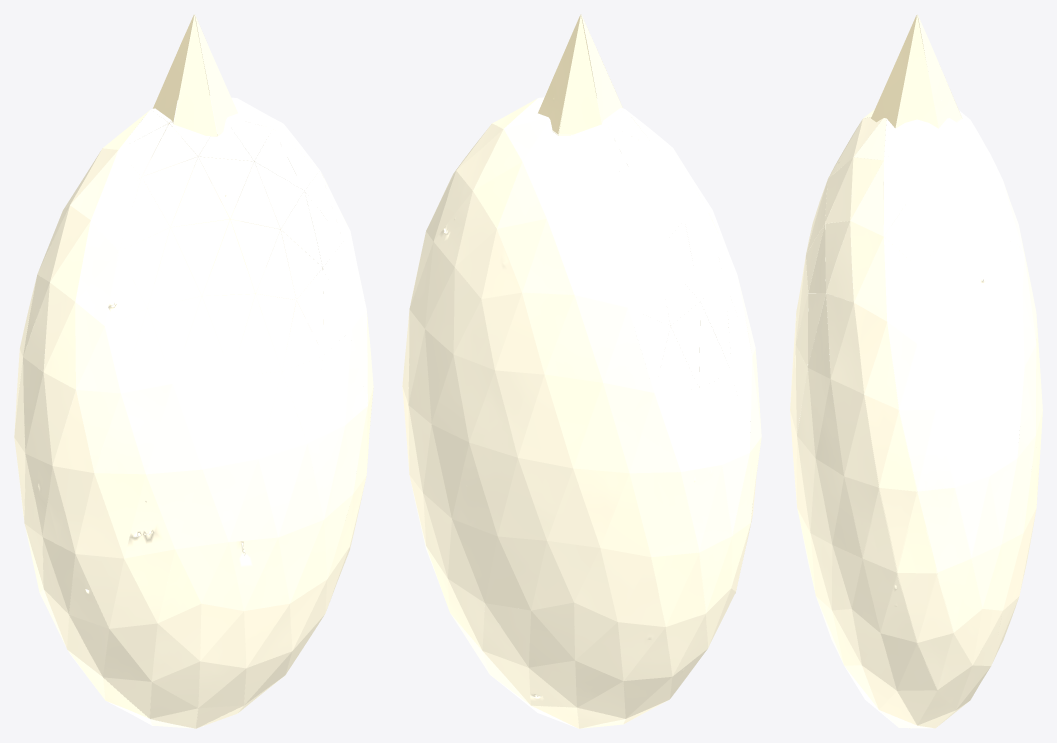
The model's file is halloween_seed.glb.
The picture shows the model from 3 angles, left to right: view 1: azimuth 30°, elevation 25°; view 2: azimuth 150°, elevation 25°; view 3: azimuth 270°, elevation 25°; orthographic projection.
Parts seen in each view (by area): view 1: PumpkinSeed; view 2: PumpkinSeed; view 3: PumpkinSeed.
Boxes of the visible parts, left/top/right/bottom form: PumpkinSeed: left=14, top=14, right=373, bottom=728; PumpkinSeed: left=402, top=14, right=761, bottom=728; PumpkinSeed: left=790, top=14, right=1042, bottom=728.
Size of the model in its own units: 0.6736 by 1.36 by 0.44.
